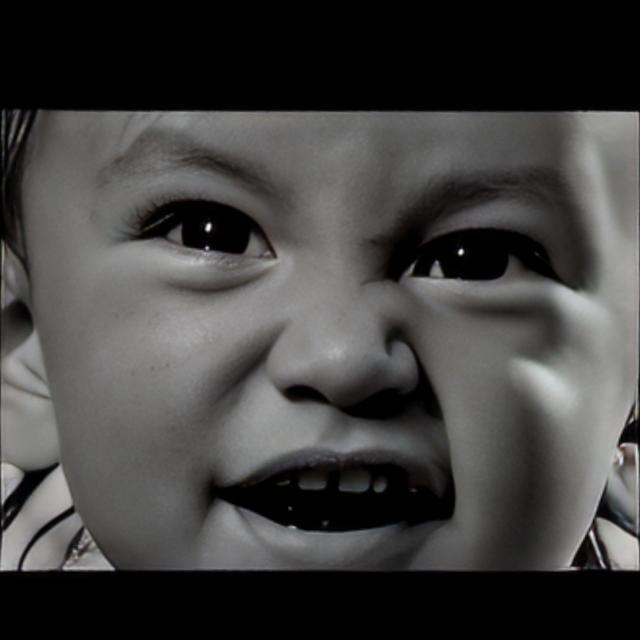disgust: (22, 113, 636, 568)
